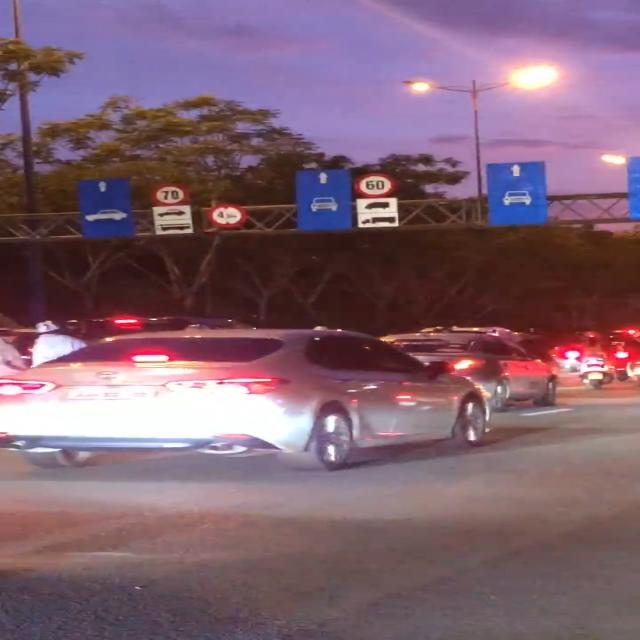Bien bao han che chieu cao: (208, 202, 242, 230)
Bien bao toc do toi da cho phep: (351, 174, 395, 196), (151, 184, 192, 207)
